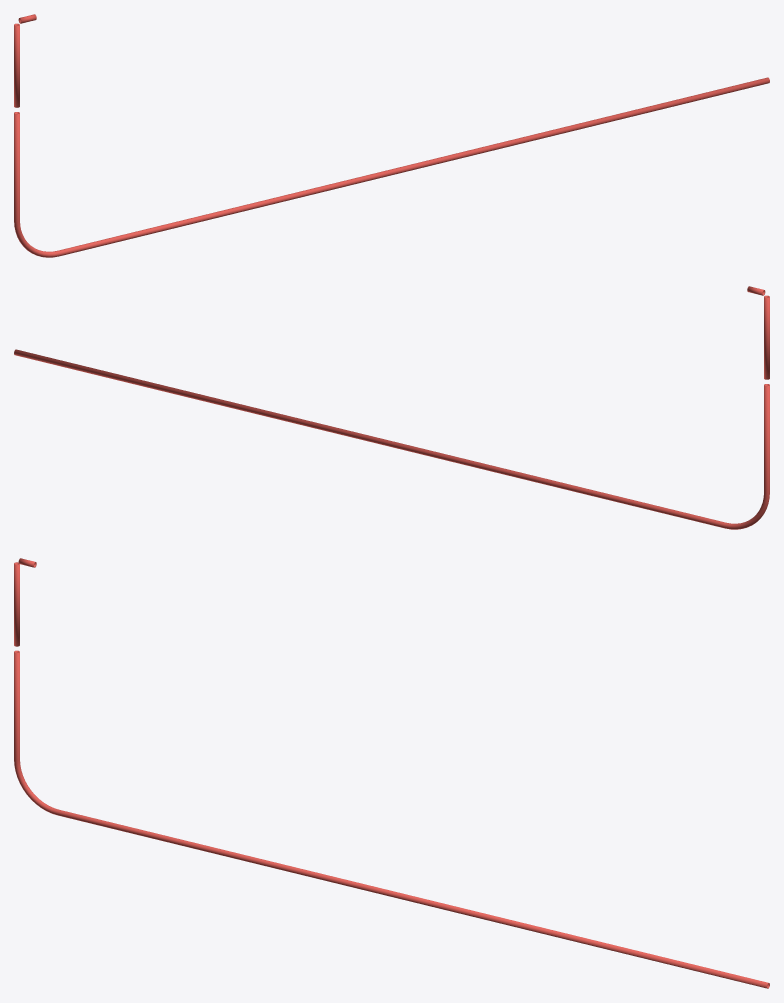
The model's file is slab_pipes_supply__plumbing__430621fd.glb.
The picture shows the model from 3 angles, top to bottom: view 1: azimuth 30°, elevation 25°; view 2: azimuth 150°, elevation 25°; view 3: azimuth 330°, elevation 25°; orthographic projection.
Parts seen in each view (by area): view 1: pipe_supply_branch_tb_hallbath_vanity_hot.901; view 2: pipe_supply_branch_tb_hallbath_vanity_hot.901; view 3: pipe_supply_branch_tb_hallbath_vanity_hot.901.
Boxes of the visible parts, x1,y1,x2,y2 form: pipe_supply_branch_tb_hallbath_vanity_hot.901: (14, 14, 769, 257); pipe_supply_branch_tb_hallbath_vanity_hot.901: (14, 286, 769, 529); pipe_supply_branch_tb_hallbath_vanity_hot.901: (14, 558, 769, 988).
Bounding box in the file's own units: 2.31 × 0.7239 × 0.0159.
